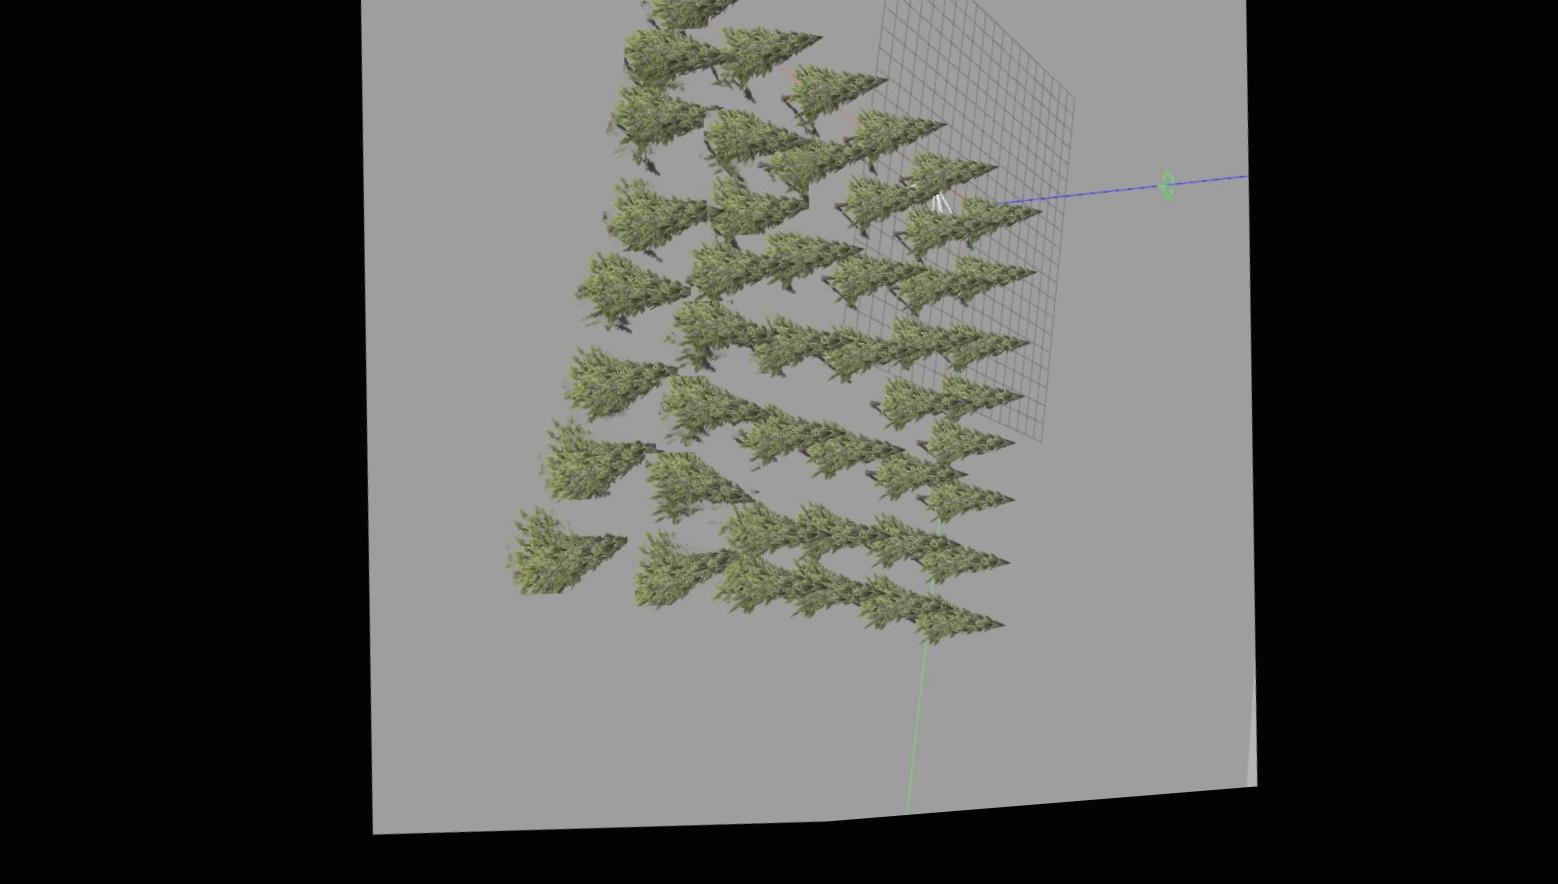tree_gazebo: (559, 362, 671, 435), (501, 533, 617, 603), (574, 262, 685, 335), (607, 98, 722, 167), (534, 443, 648, 509), (601, 196, 711, 262), (654, 387, 761, 449), (637, 463, 746, 520), (700, 122, 804, 181), (622, 41, 730, 96), (625, 559, 729, 616), (666, 313, 767, 370), (703, 197, 805, 248), (644, 0, 754, 43)
